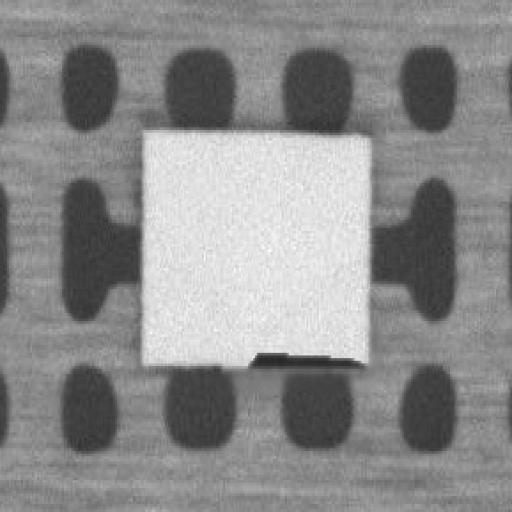DIE_BROKEN: (248, 345, 363, 366)
